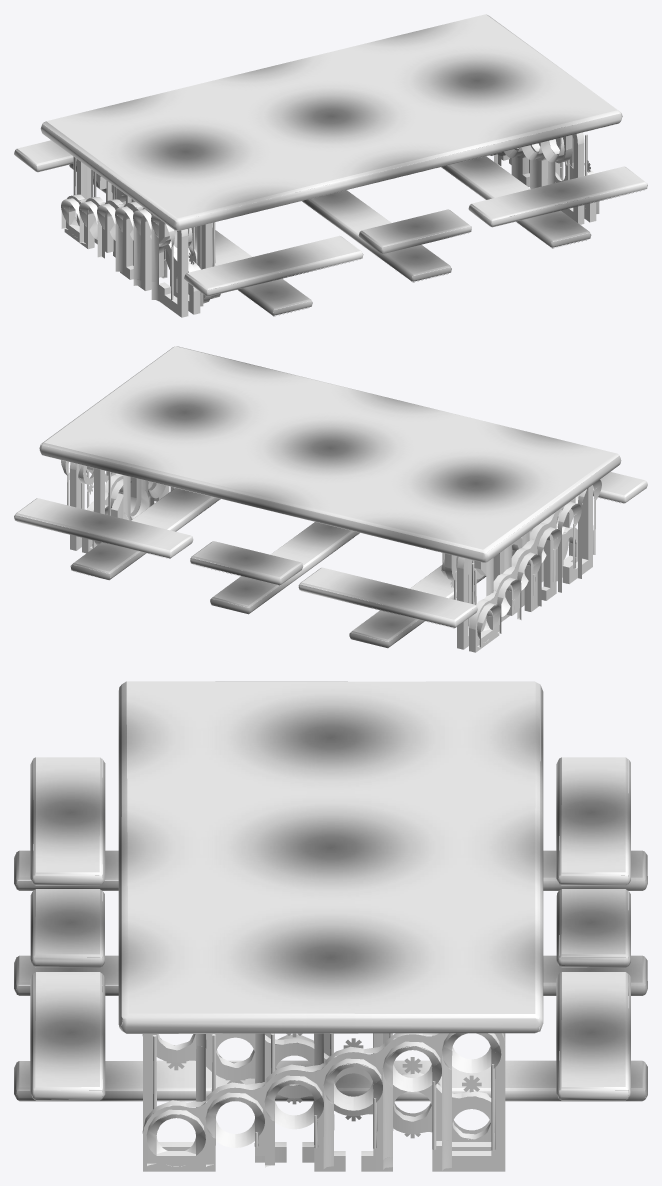
File: BoardROOMTABLE-WHT-v77.glb
3 views of the same model, one above another, from view 1: azimuth 30°, elevation 25°; view 2: azimuth 150°, elevation 25°; view 3: azimuth 270°, elevation 25° (orthographic). The views are drawn at different scales.
Visible parts, largest first — view 1: BoardROOMTABLE- WHT; view 2: BoardROOMTABLE- WHT; view 3: BoardROOMTABLE- WHT.
Part boxes in pixels (x1,y1,x2,y2): BoardROOMTABLE- WHT: (14,14,647,317); BoardROOMTABLE- WHT: (14,346,647,652); BoardROOMTABLE- WHT: (14,681,647,1171).
Size of the model in its own units: 5.09 by 1.19 by 4.03.
Materials: 1 (1 with a texture image).
